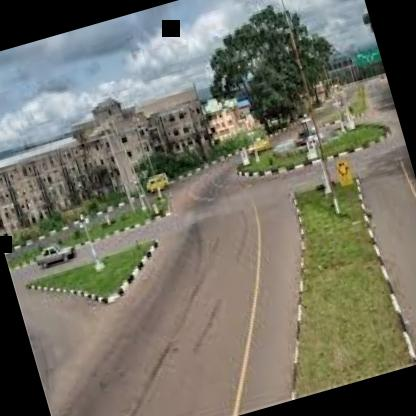car: (28, 230, 82, 279), (138, 162, 178, 202)
